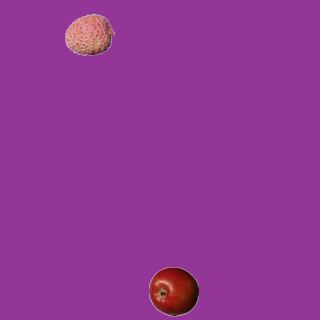Apple Braeburn: (148, 266, 198, 316)
Lychee: (64, 9, 114, 59)
